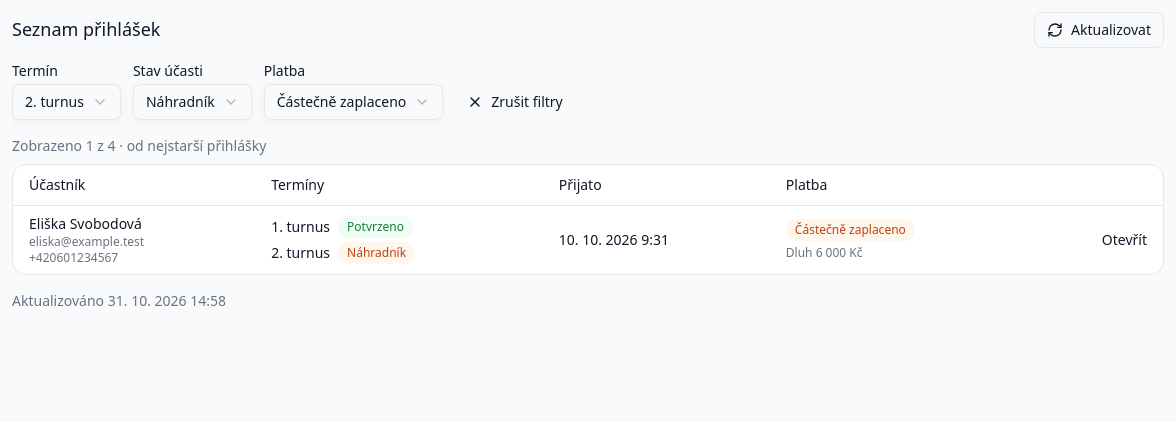
Scenario: RegistrationsSection › refreshes with the same filters and keeps the last list when that fails
expect the link "Eliška Svobodová" is shown: met, box 29,214 -> 142,232
Click the button "Aktualizovat" at (1099,30), box 1034,12 -> 1164,48
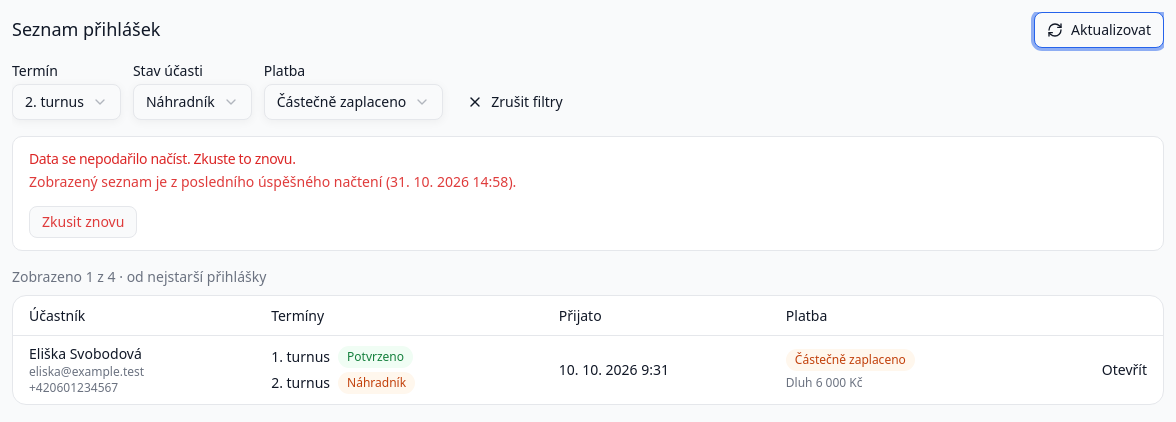
expect the text "Data se nepodařilo načíst. Zkuste to znovu." is shown: met, box 29,149 -> 296,168
expect the text "z posledního úspěšného načtení" is shown: met, box 29,172 -> 390,191
expect the text "Aktualizováno" is gone: met
